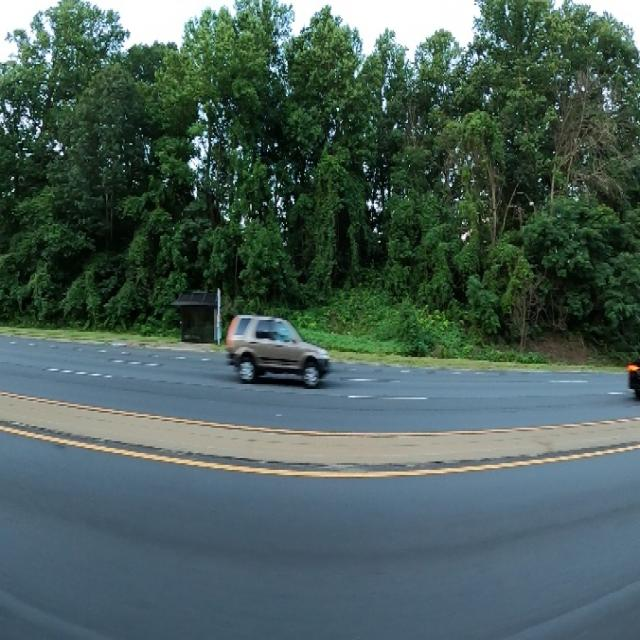cars: (223, 308, 333, 390), (626, 334, 640, 400)
